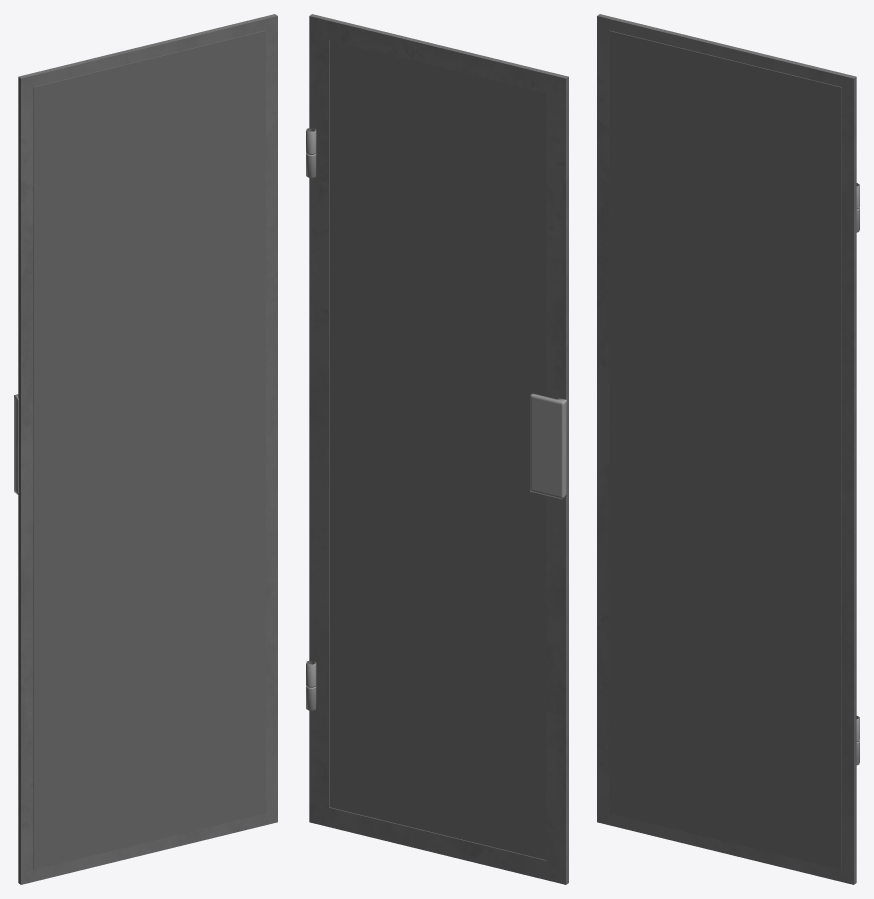
Rendered from DC_door.glb.
3 renders of one model, left to right at view 1: azimuth 30°, elevation 25°; view 2: azimuth 150°, elevation 25°; view 3: azimuth 330°, elevation 25°, orthographic.
Parts seen in each view (by area): view 1: DoorFrame; view 2: DoorFrame; view 3: DoorFrame.
Boxes of the visible parts, box(x1,y1,x2,y2) form: DoorFrame: box(14, 14, 277, 884); DoorFrame: box(306, 14, 568, 884); DoorFrame: box(597, 14, 859, 884).
Bounding box in the file's own units: 0.8785 × 2.63 × 0.0495.
Materials: 3 (1 with a texture image).
